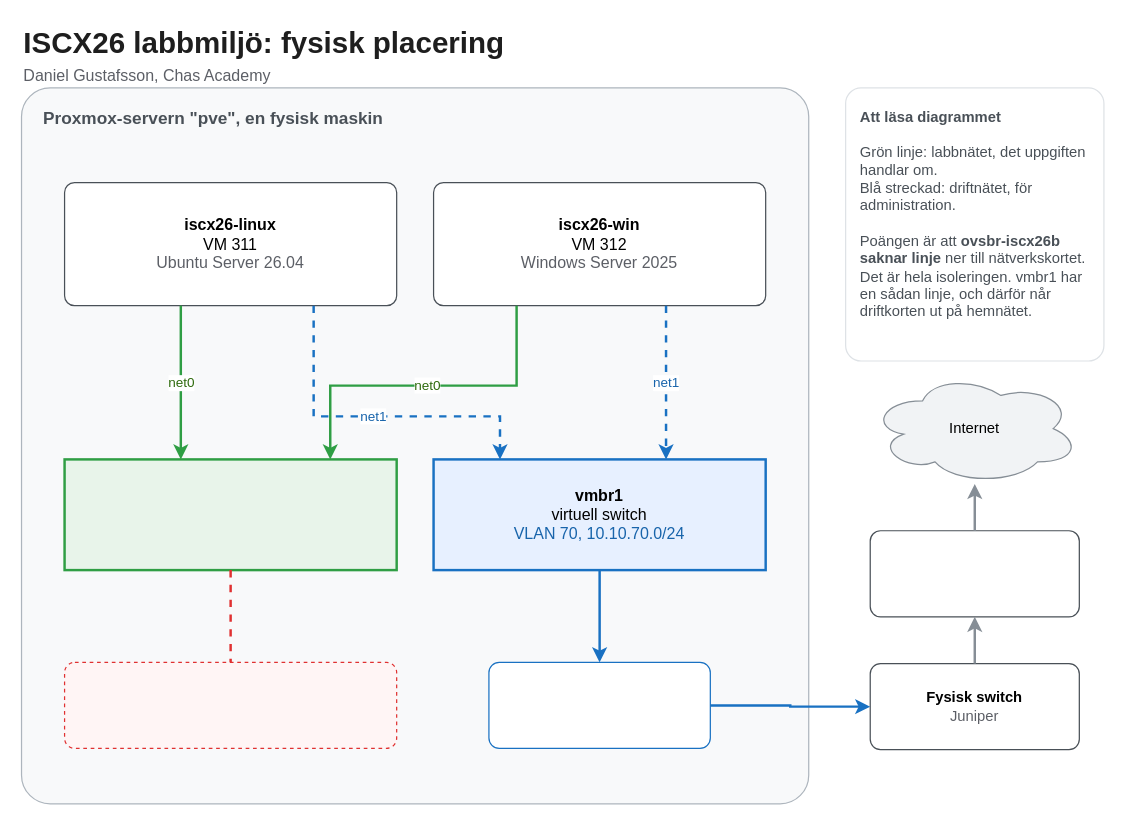
This 1125x825 diagram has some shape labels left out. The box of each missing label's shape, as (x1, y1, x2, y2) in pixels:
eno1np0 fysiskt nätverkskort: (488, 661, 710, 748)
Ingen fysisk port trafiken kan inte lämna servern: (63, 661, 397, 748)
ovsbr-iscx26b virtuell switch 192.168.110.0/24: (63, 458, 397, 571)
pfSense router och brandvägg: (869, 530, 1079, 617)
